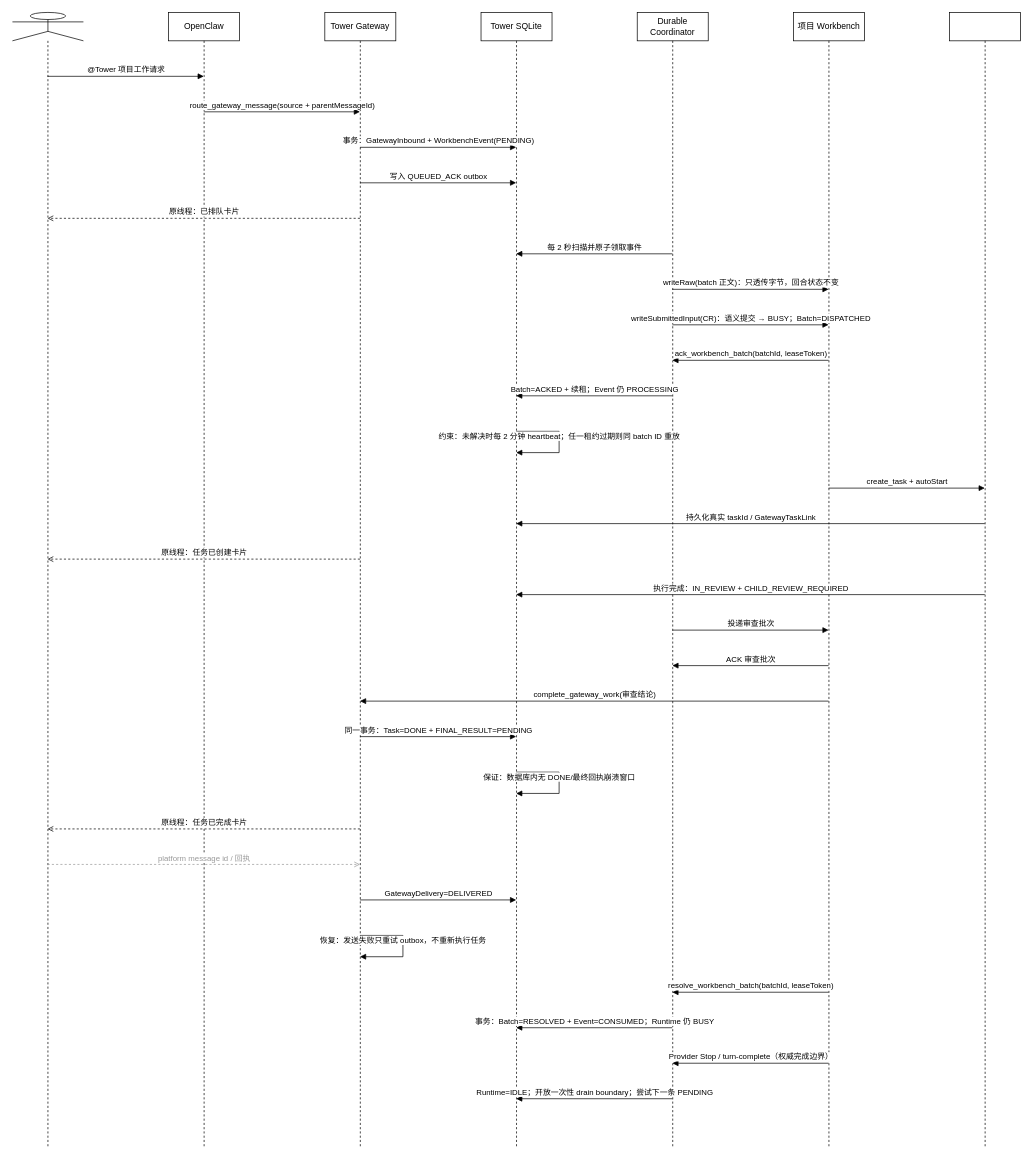
Some shapes in this 1033 by 1161 pixel diagram are drawn without their labels. Here are the shapes that lost their labels. From the top down, the box of each, then its label:
(12, 12, 83, 1148): 用户 / 飞书
(949, 12, 1021, 1148): 子任务终端
